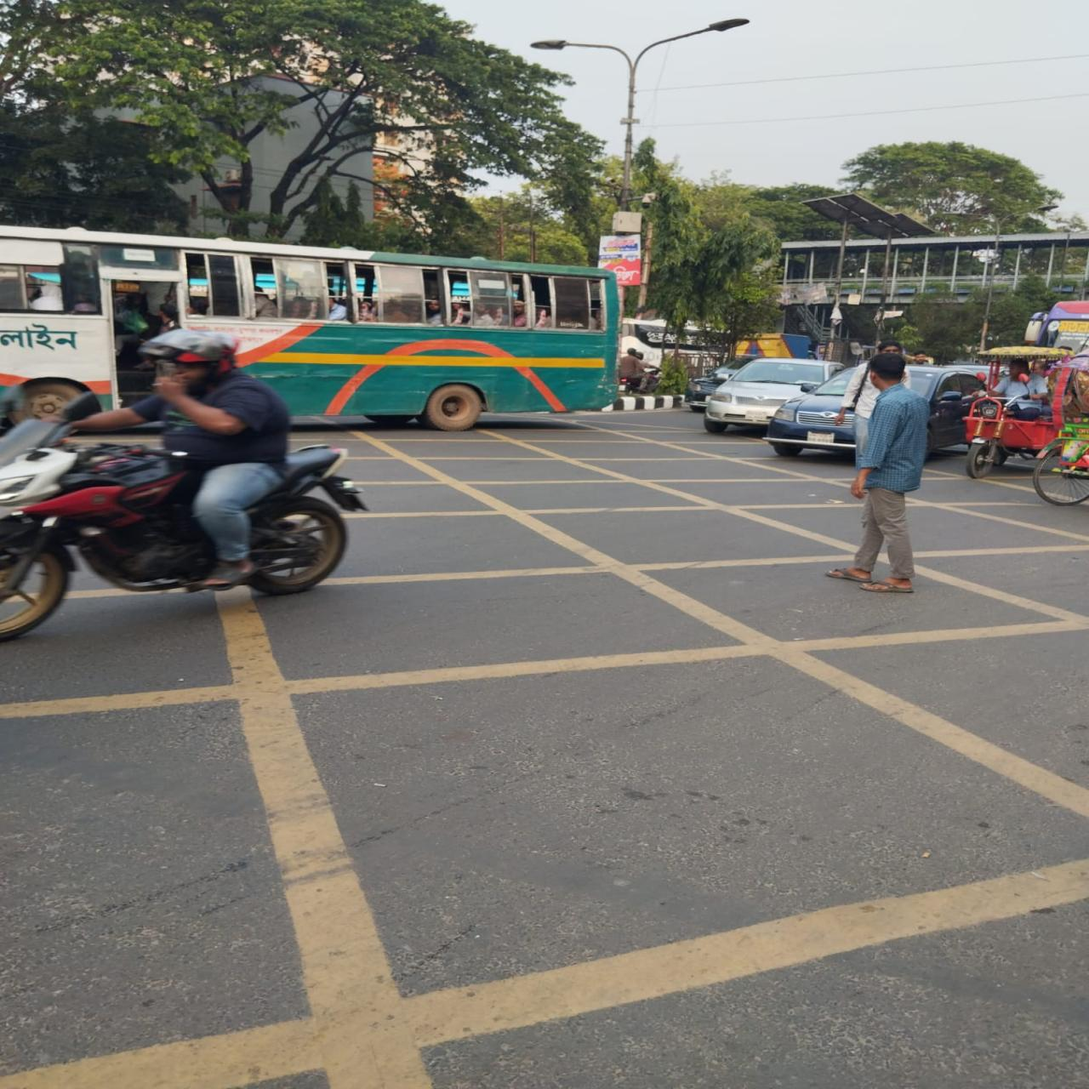person: (835, 354, 941, 600)
